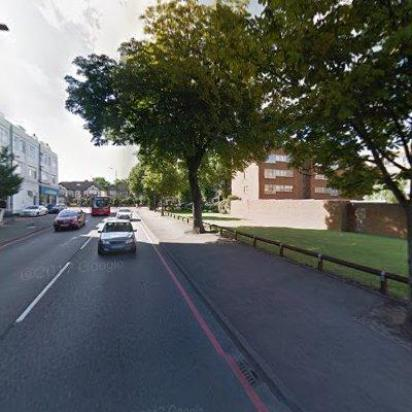moving-bus: (88, 195, 112, 217)
moving-car: (95, 216, 136, 258), (52, 206, 84, 230), (115, 206, 133, 220)
stationary-car-onstreet: (22, 206, 48, 217)
